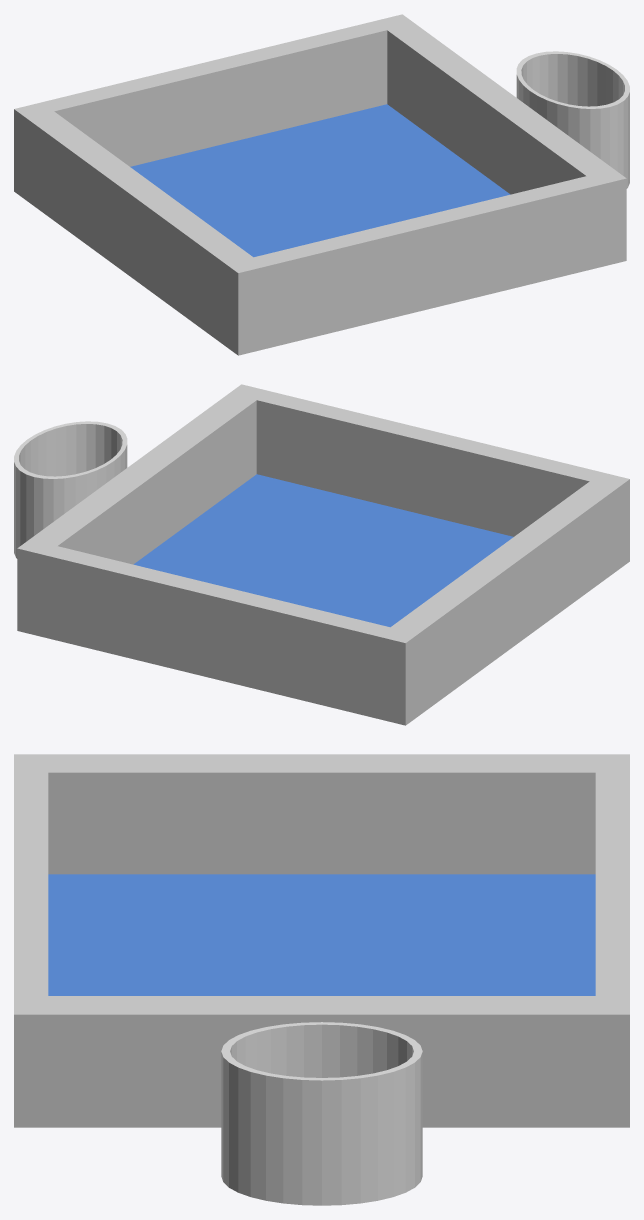
Rendered from Generator.fbx.
The picture shows the model from 3 angles, top to bottom: view 1: azimuth 30°, elevation 25°; view 2: azimuth 150°, elevation 25°; view 3: azimuth 270°, elevation 25°; orthographic projection. The views are drawn at different scales.
Visible parts, largest first — view 1: Plane, Cylinder; view 2: Plane, Cylinder; view 3: Plane, Cylinder.
Part boxes in pixels (left/top/right/bottom): Plane: left=14, top=14, right=626, bottom=355; Cylinder: left=516, top=51, right=629, bottom=188; Plane: left=17, top=384, right=629, bottom=725; Cylinder: left=14, top=421, right=127, bottom=558; Plane: left=14, top=754, right=629, bottom=1127; Cylinder: left=221, top=1022, right=422, bottom=1205.
Bounding box in the file's own units: 1379 × 245 × 1091.
